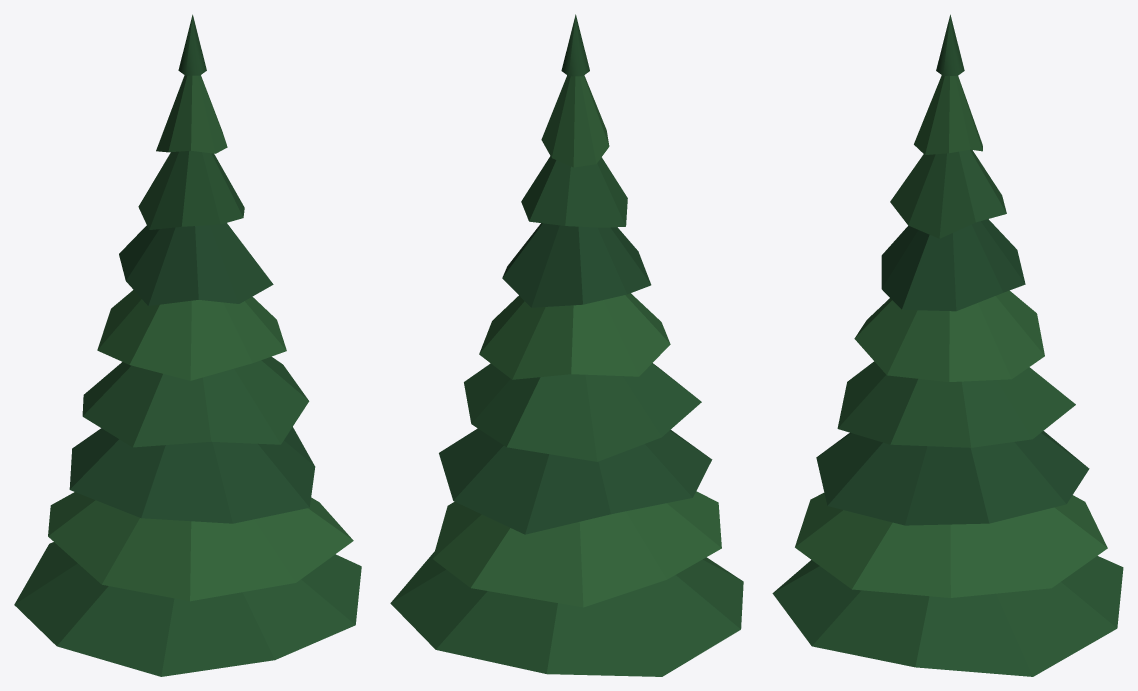
The model's file is tree02.glb.
3 views of the same model, side by side, from view 1: azimuth 30°, elevation 25°; view 2: azimuth 150°, elevation 25°; view 3: azimuth 270°, elevation 25° (orthographic).
Visible parts, largest first — view 1: crown; view 2: crown; view 3: crown.
Boxes of the visible parts, x1=… form: crown: x1=14, y1=14, x2=361, y2=676; crown: x1=390, y1=14, x2=743, y2=676; crown: x1=772, y1=14, x2=1123, y2=676.
Bounding box in the file's own units: 1.95 × 3.66 × 1.96.
